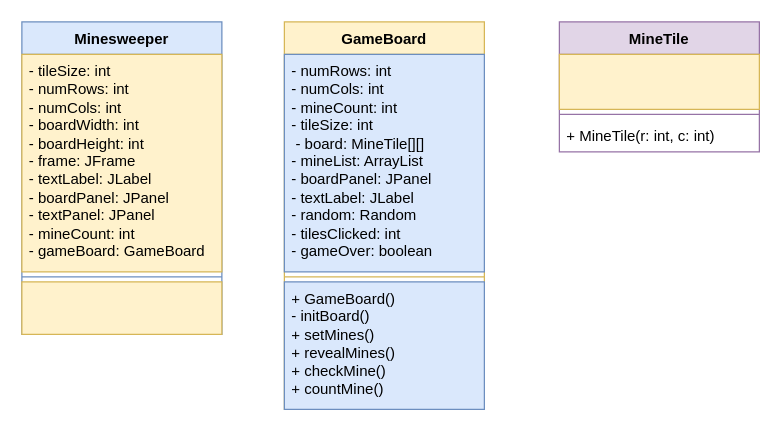
This 781x435 diagram has some shape labels left out. The box of each missing label's shape, as (x1, y1, x2, y2) in pixels:
+ Minesweeper() + main(args: String[]: (21, 281, 222, 334)
- r: int - c: int: (558, 53, 759, 109)
